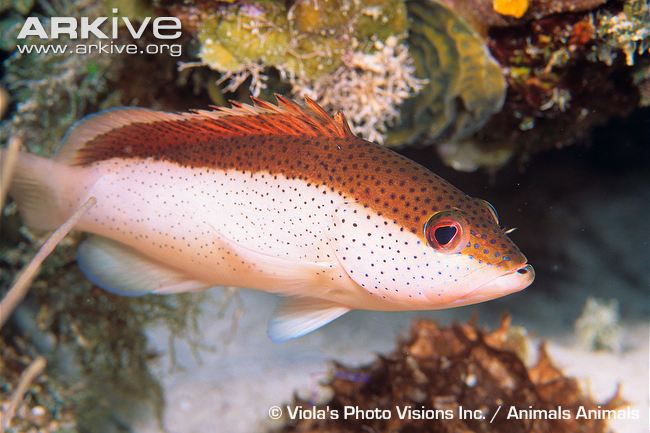Cephalopholis_fulvaw: (3, 75, 549, 344)
